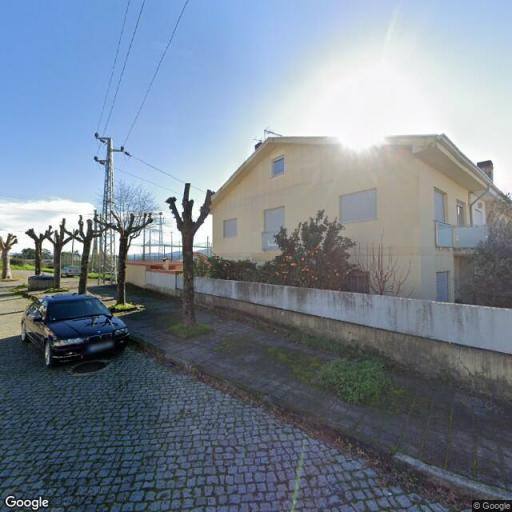ss_4: (90, 128, 129, 289)
